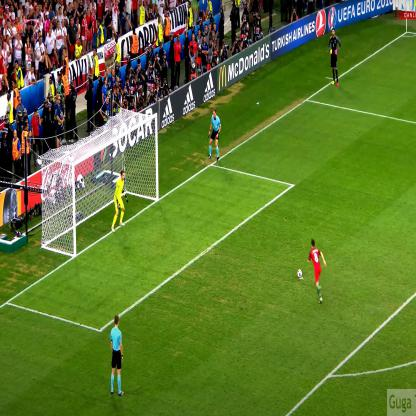penalty kick: (36, 135, 348, 301)
